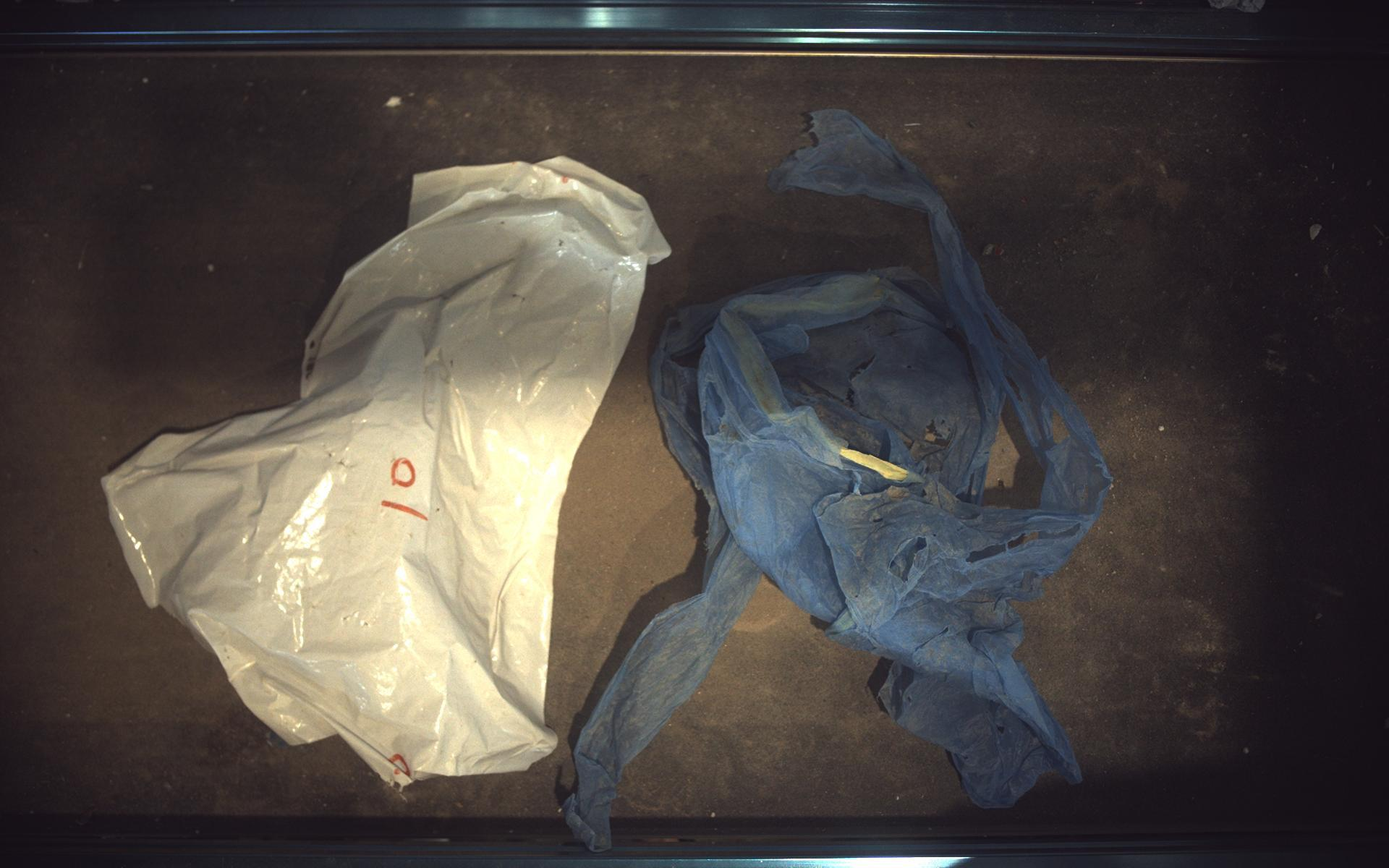general_w: (566, 110, 1113, 851), (101, 156, 671, 788)
